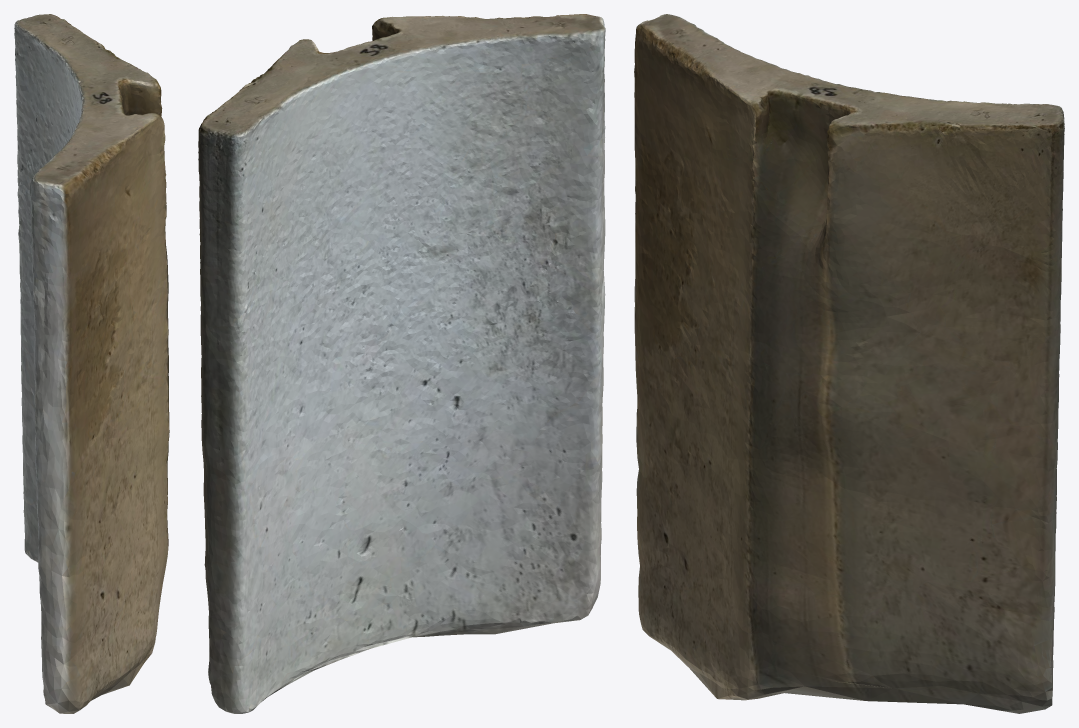
The model's file is Pixel 38.glb.
3 views of the same model, side by side, from view 1: azimuth 30°, elevation 25°; view 2: azimuth 150°, elevation 25°; view 3: azimuth 270°, elevation 25° (orthographic). The views are drawn at different scales.
Bounding box in the file's own units: 0.1013 × 0.2605 × 0.1637.
1 material, 1 textured.
